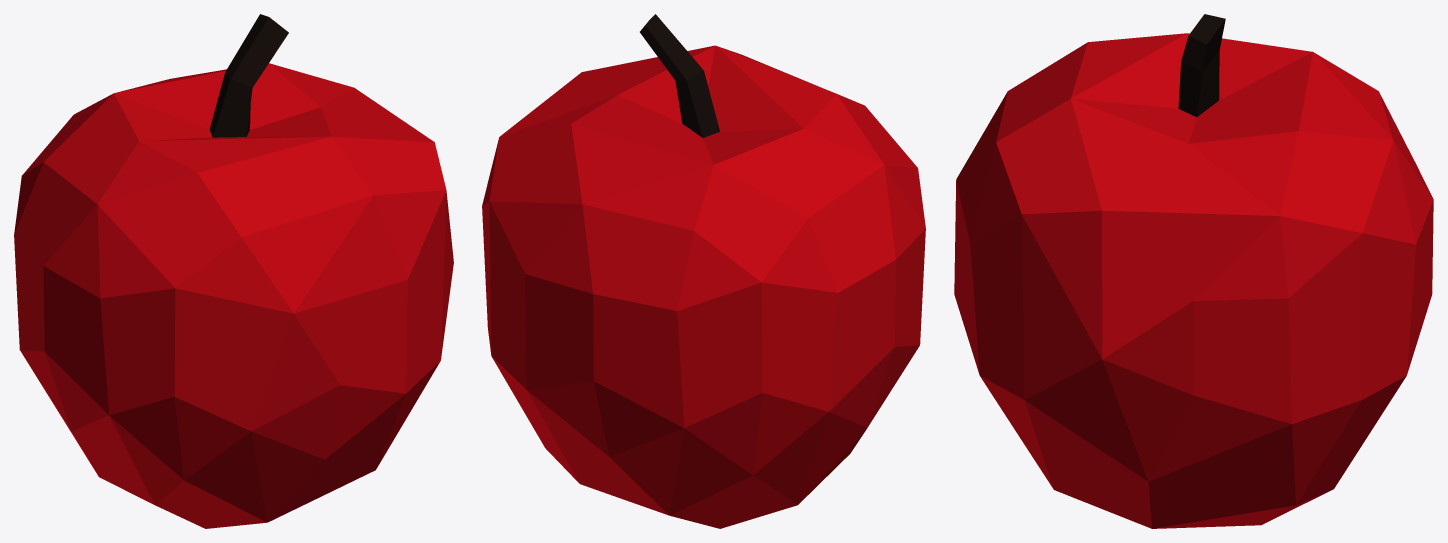
The model's file is apple.obj.
3 renders of one model, left to right at view 1: azimuth 30°, elevation 25°; view 2: azimuth 150°, elevation 25°; view 3: azimuth 270°, elevation 25°, orthographic. The views are drawn at different scales.
Visible parts, largest first — view 1: apple; view 2: apple; view 3: apple.
Part boxes in pixels (x1,y1,x2,y2): apple: (14, 14, 453, 528); apple: (482, 14, 925, 528); apple: (954, 14, 1433, 528).
Bounding box in the file's own units: 1.53 × 1.8 × 1.52.
